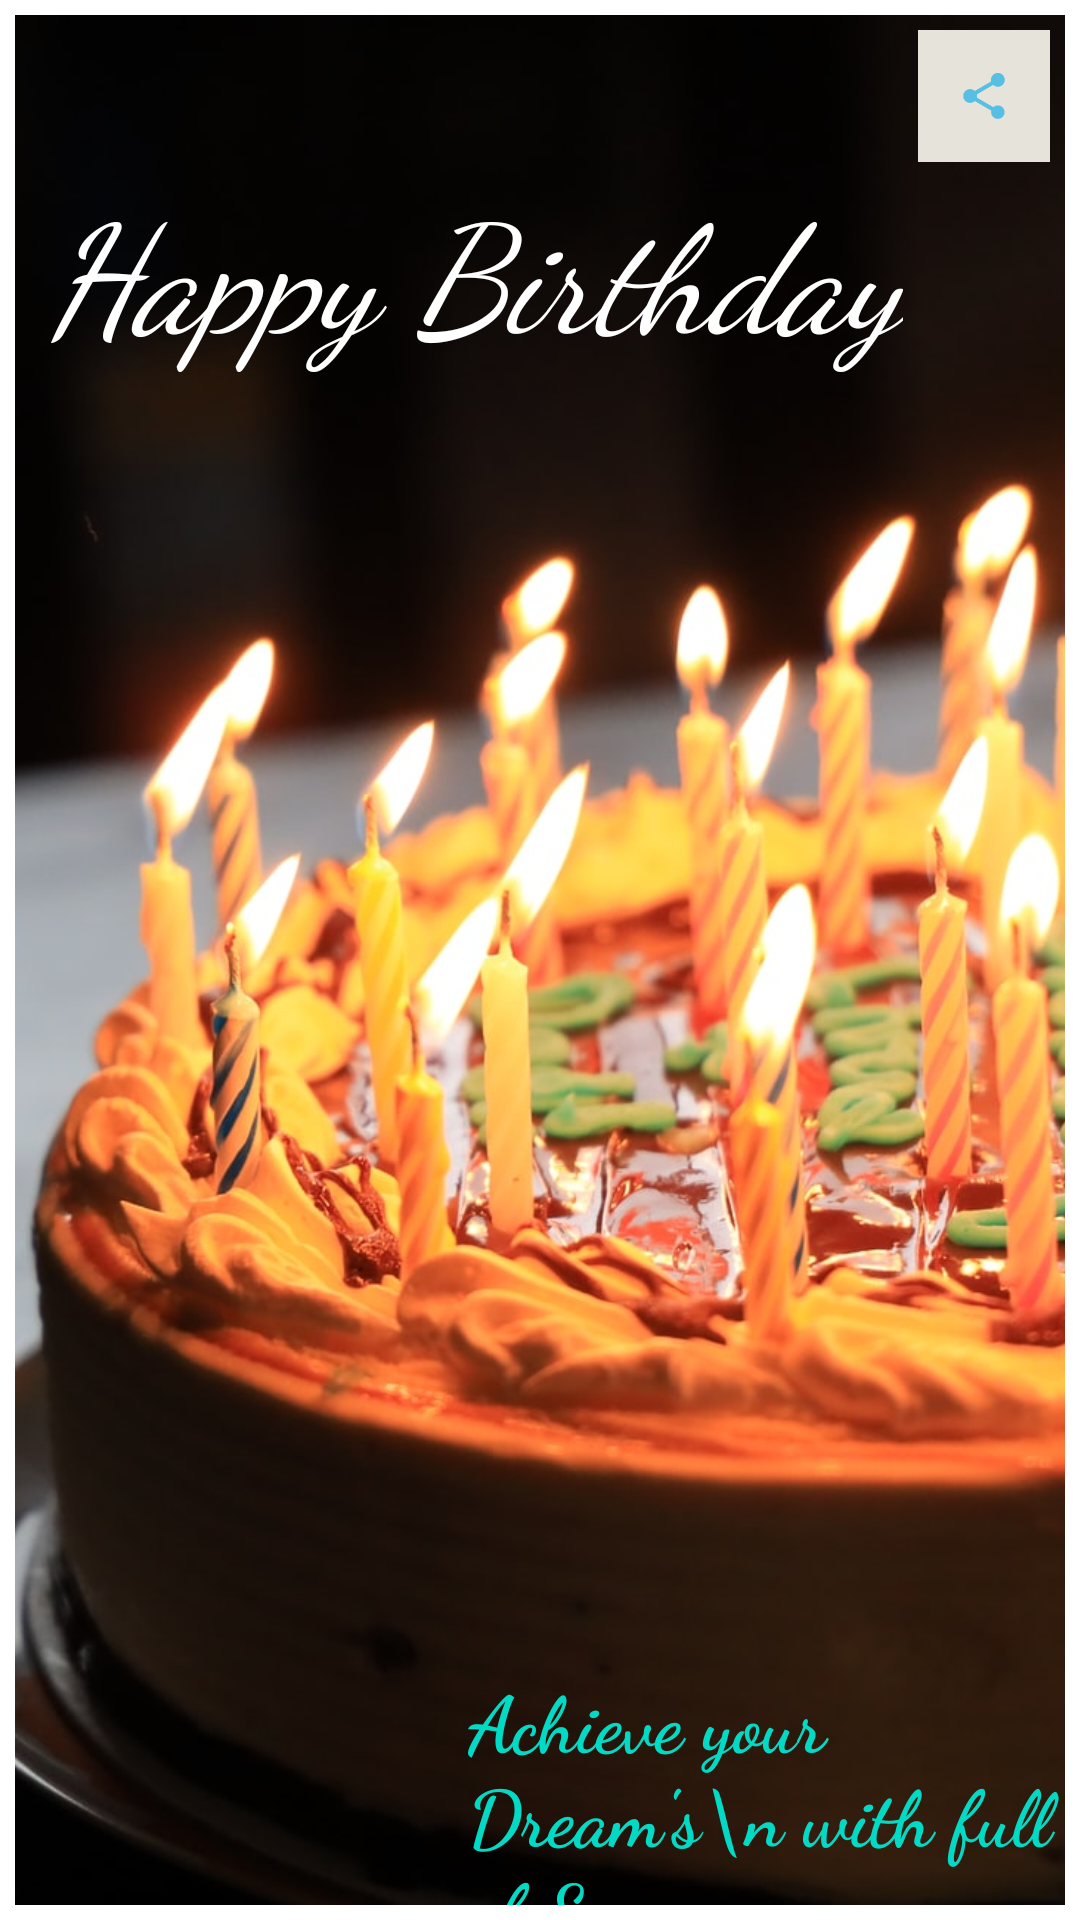

Where icons sit on this 1080 x 1920 app screen, as region(x1, y1, x2, y2):
share: region(918, 30, 1050, 162)
